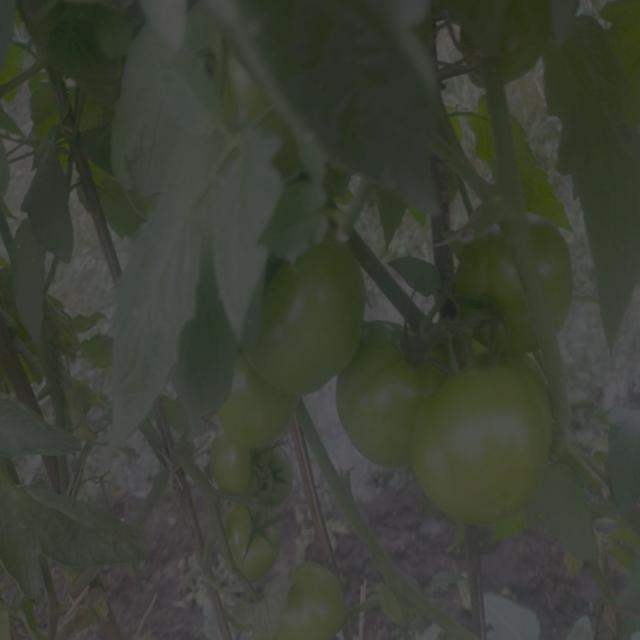tomato: (414, 362, 552, 524), (250, 242, 361, 386), (344, 324, 442, 469), (454, 231, 532, 355), (221, 355, 302, 449), (528, 217, 573, 329), (281, 565, 344, 640), (219, 507, 279, 576), (209, 437, 271, 501), (501, 1, 545, 82), (261, 449, 298, 518)
